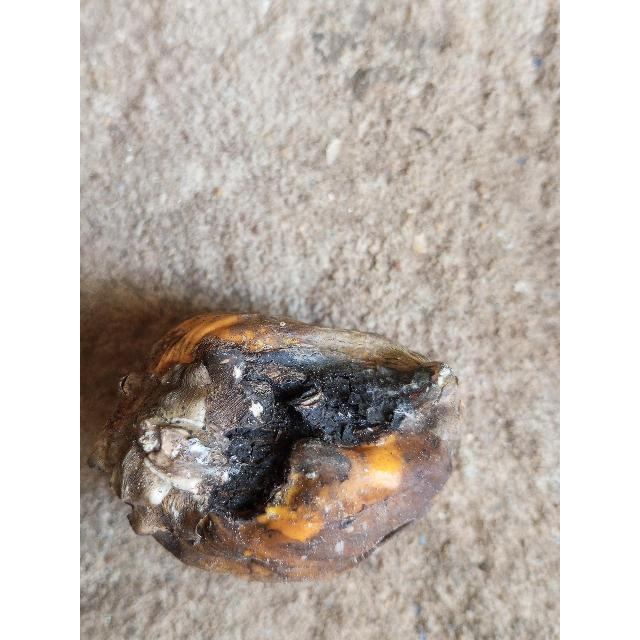damaged: (102, 313, 453, 585)
